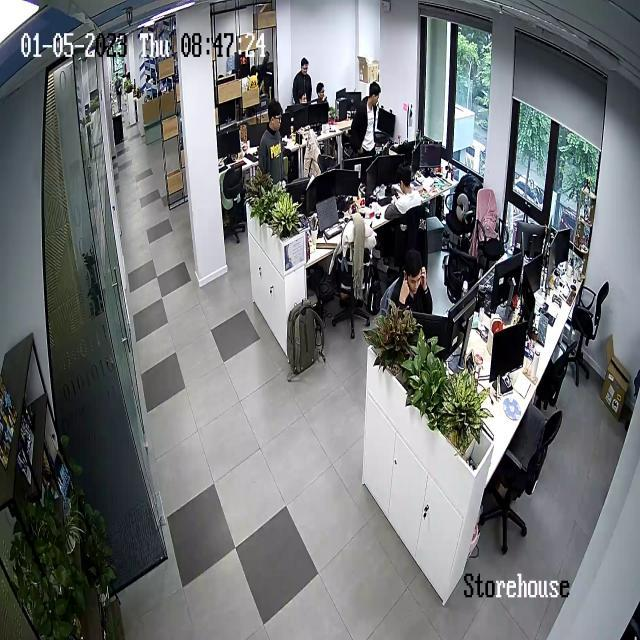person: (380, 249, 433, 316), (258, 99, 286, 185), (352, 81, 384, 156), (386, 161, 426, 216), (292, 56, 313, 105), (310, 81, 332, 123)
